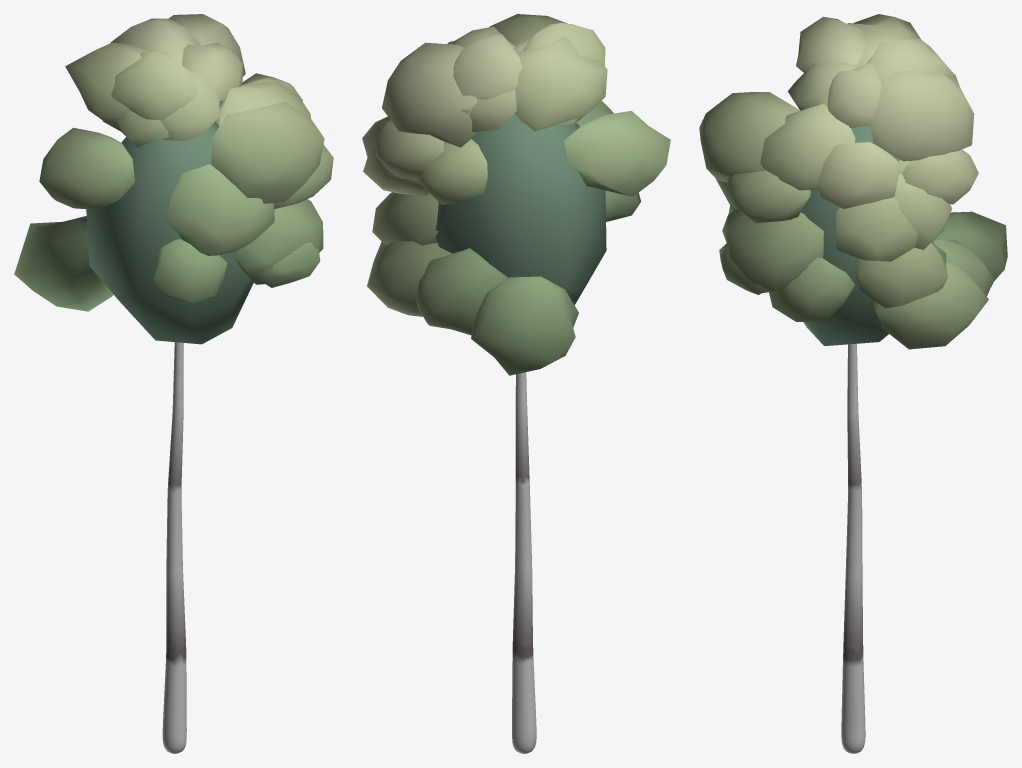
The model's file is a_silver_birch.glb.
3 views of the same model, side by side, from view 1: azimuth 30°, elevation 25°; view 2: azimuth 150°, elevation 25°; view 3: azimuth 270°, elevation 25° (orthographic). The views are drawn at different scales.
Parts seen in each view (by area): view 1: near; view 2: near; view 3: near.
Boxes of the visible parts, x1,y1,x2,y2 form: near: [14, 14, 333, 753]; near: [362, 14, 670, 753]; near: [699, 14, 1007, 753].
Size of the model in its own units: 5.95 by 14.32 by 5.57.
